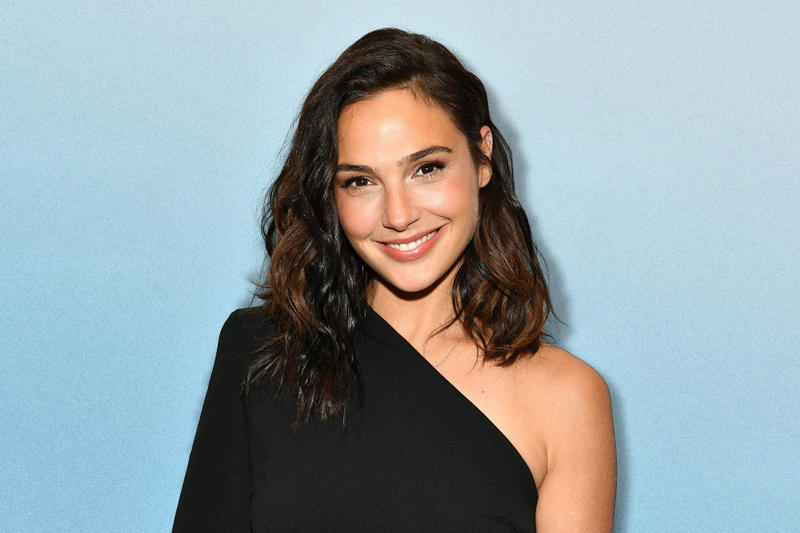person: (168, 26, 626, 533)
